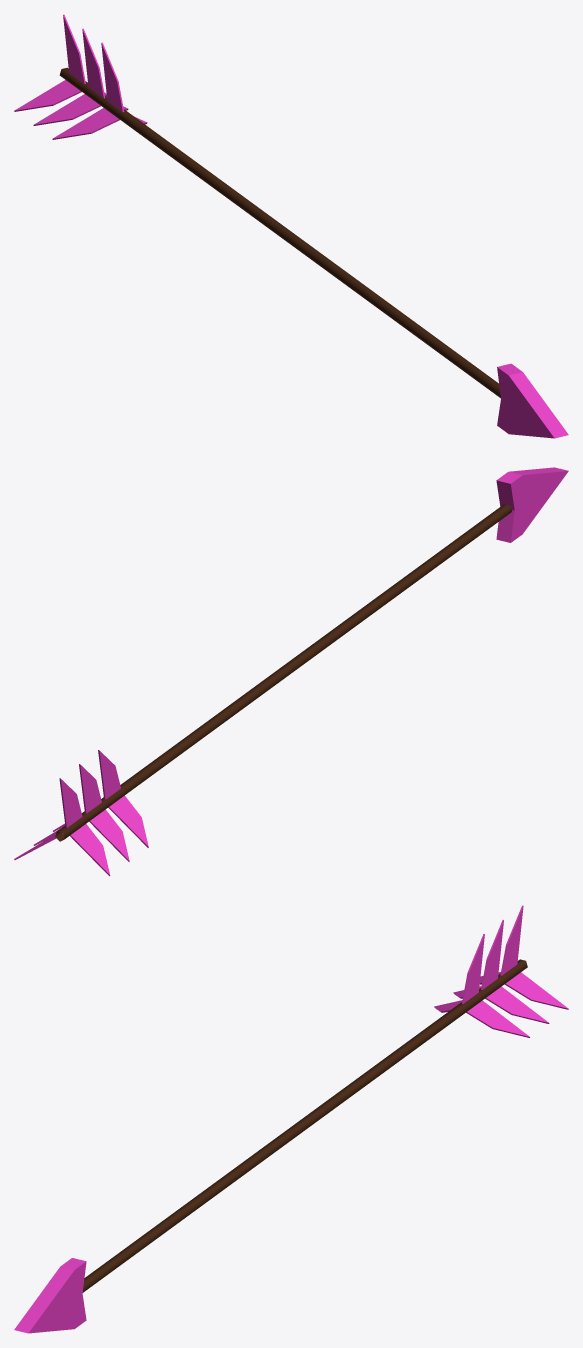
Rendered from flecha.fbx.
3 views of the same model, one above another, from view 1: azimuth 30°, elevation 25°; view 2: azimuth 150°, elevation 25°; view 3: azimuth 330°, elevation 25° (orthographic).
Parts seen in each view (by area): view 1: Cube; view 2: Cube; view 3: Cube.
Part boxes in pixels (x1,y1,x2,y2): Cube: [14, 14, 568, 438]; Cube: [14, 467, 568, 876]; Cube: [14, 905, 568, 1333].
Size of the model in its own units: 6.89 by 6.38 by 62.27.
